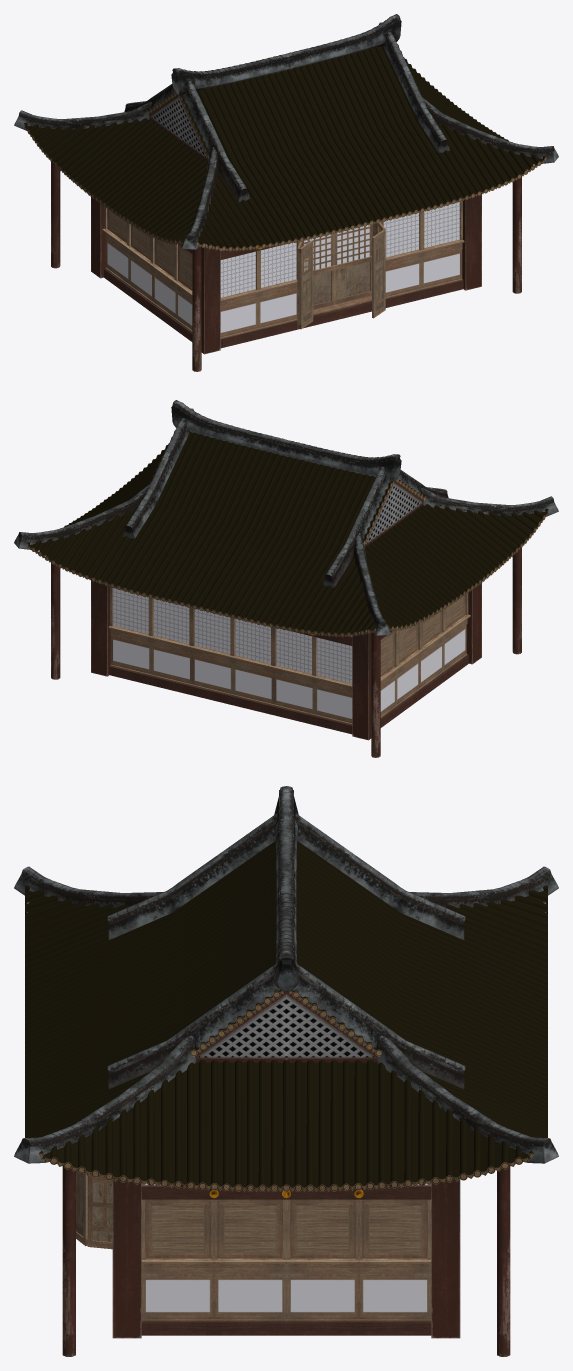
Rendered from china_house_beta.glb.
3 views of the same model, one above another, from view 1: azimuth 30°, elevation 25°; view 2: azimuth 150°, elevation 25°; view 3: azimuth 270°, elevation 25° (orthographic). The views are drawn at different scales.
Visible parts, largest first — view 1: Object_4, Object_3, Object_9, Object_7, Object_8, Object_2, Object_5; view 2: Object_4, Object_9, Object_3, Object_8, Object_2, Object_5; view 3: Object_4, Object_3, Object_8, Object_2, Object_5, Object_7.
Part boxes in pixels (x1=…): Object_4: x1=24, y1=45, x2=545, y2=248; Object_3: x1=14, y1=22, x2=558, y2=371; Object_9: x1=209, y1=155, x2=464, y2=348; Object_7: x1=297, y1=222, x2=385, y2=329; Object_8: x1=102, y1=207, x2=192, y2=341; Object_2: x1=171, y1=14, x2=401, y2=95; Object_5: x1=24, y1=44, x2=546, y2=251; Object_4: x1=27, y1=431, x2=548, y2=634; Object_9: x1=108, y1=586, x2=352, y2=734; Object_3: x1=14, y1=408, x2=558, y2=757; Object_8: x1=380, y1=593, x2=470, y2=727; Object_2: x1=171, y1=400, x2=401, y2=481; Object_5: x1=26, y1=430, x2=548, y2=637; Object_4: x1=25, y1=841, x2=547, y2=1187; Object_3: x1=14, y1=813, x2=558, y2=1356; Object_8: x1=141, y1=1183, x2=431, y2=1335; Object_2: x1=274, y1=786, x2=298, y2=991; Object_5: x1=38, y1=991, x2=534, y2=1191; Object_7: x1=76, y1=1170, x2=112, y2=1249.
Size of the model in its own units: 923 by 556 by 753.
8 materials, 7 textured.
